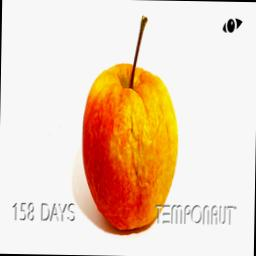Apple Overripe: (79, 0, 182, 235)
